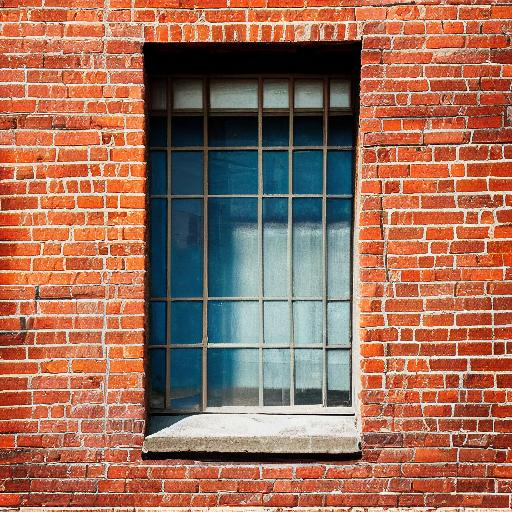Window: (141, 26, 365, 461)
